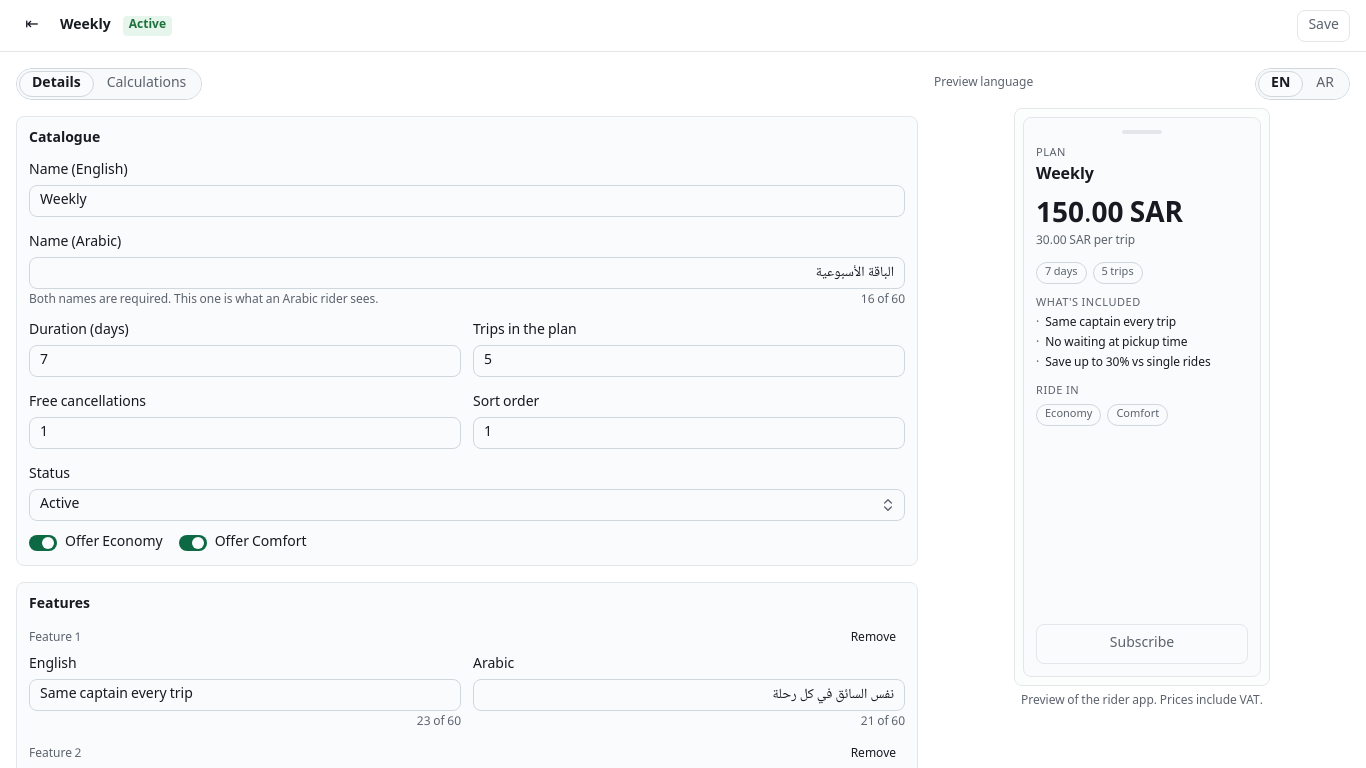
Test: the plan editor › Reset to plan returns the trial numbers to the plan
Check: the heading "Catalogue" is shown, box [29,127,100,151]
Click the tab "Calculations".
click(147, 84)  # box [94,71,199,97]
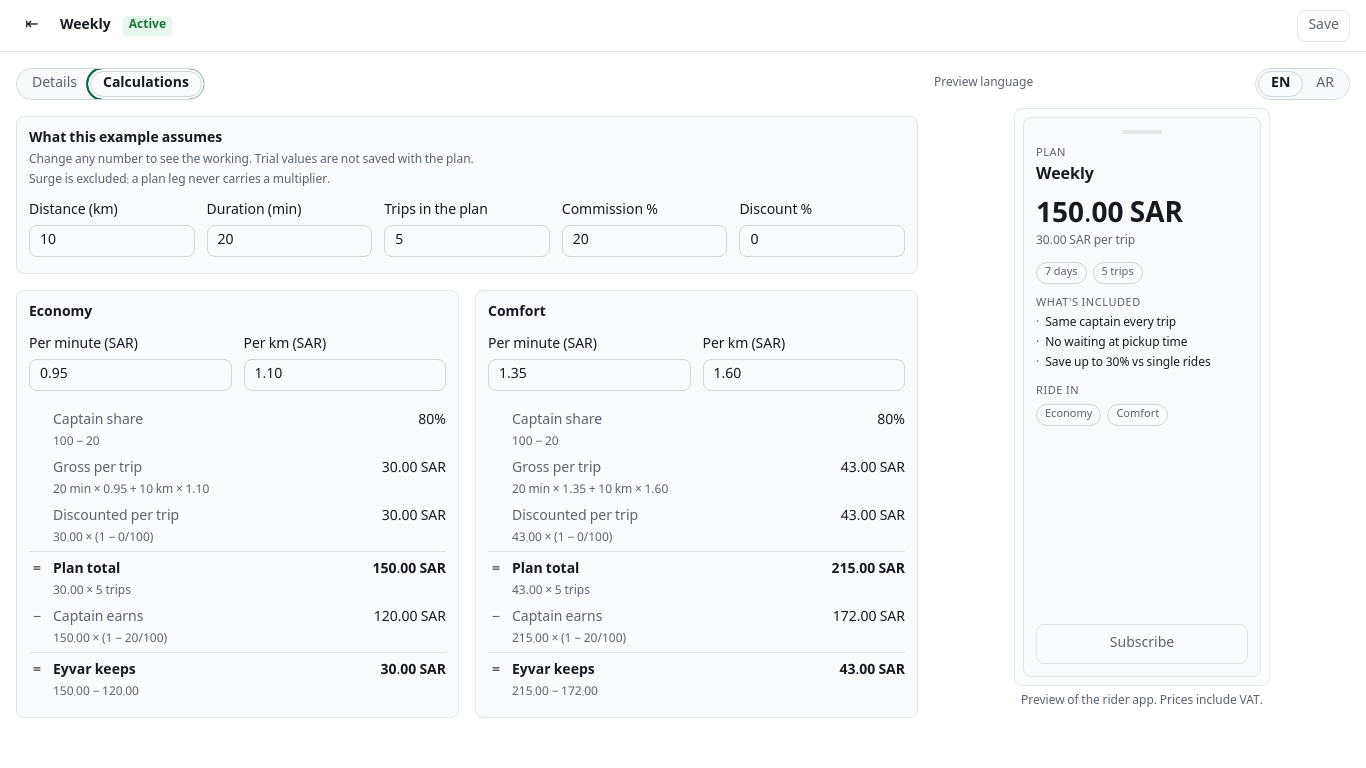
Check: the button "Reset to plan" is not shown
Replace the text in the field labelled "Commission %" with "50" at (645, 241), box [562,225,727,257]
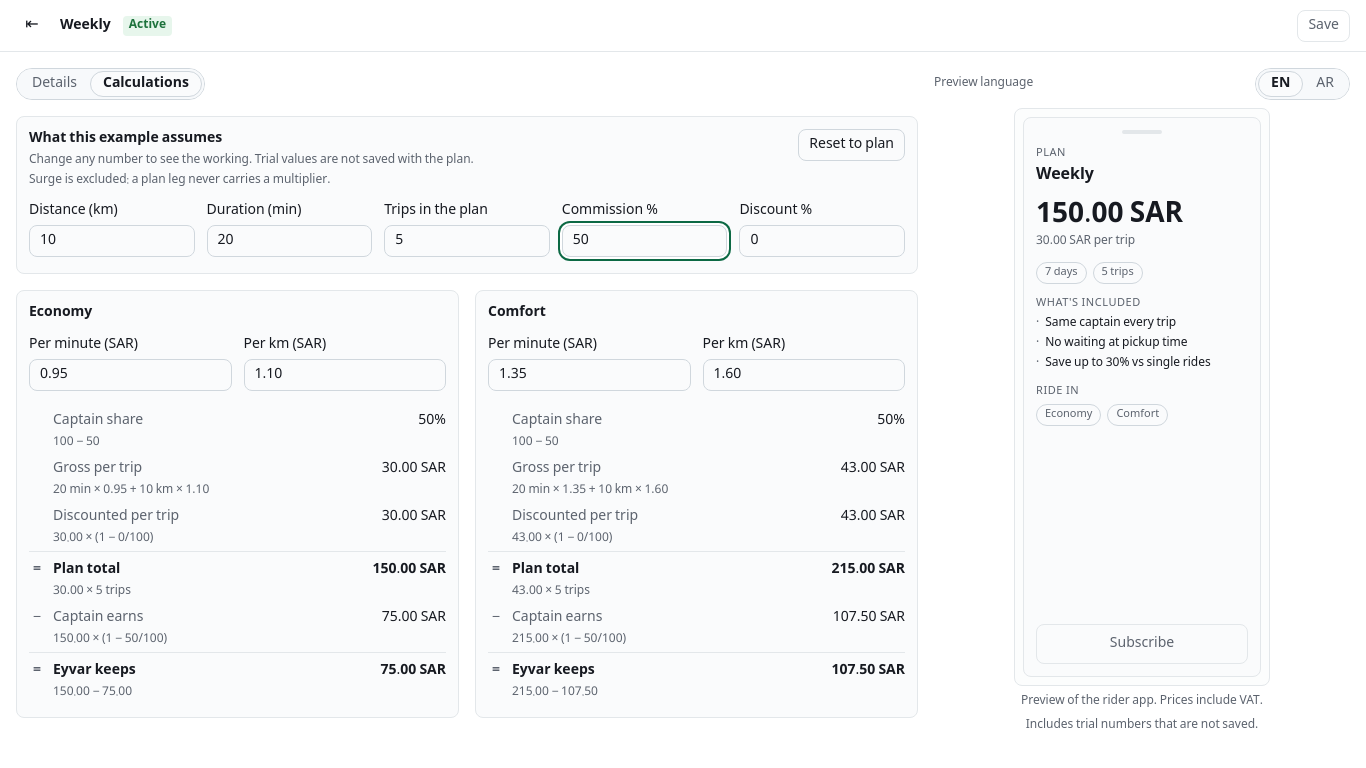
Click the button "Reset to plan".
click(852, 145)  # box [798,129,905,161]
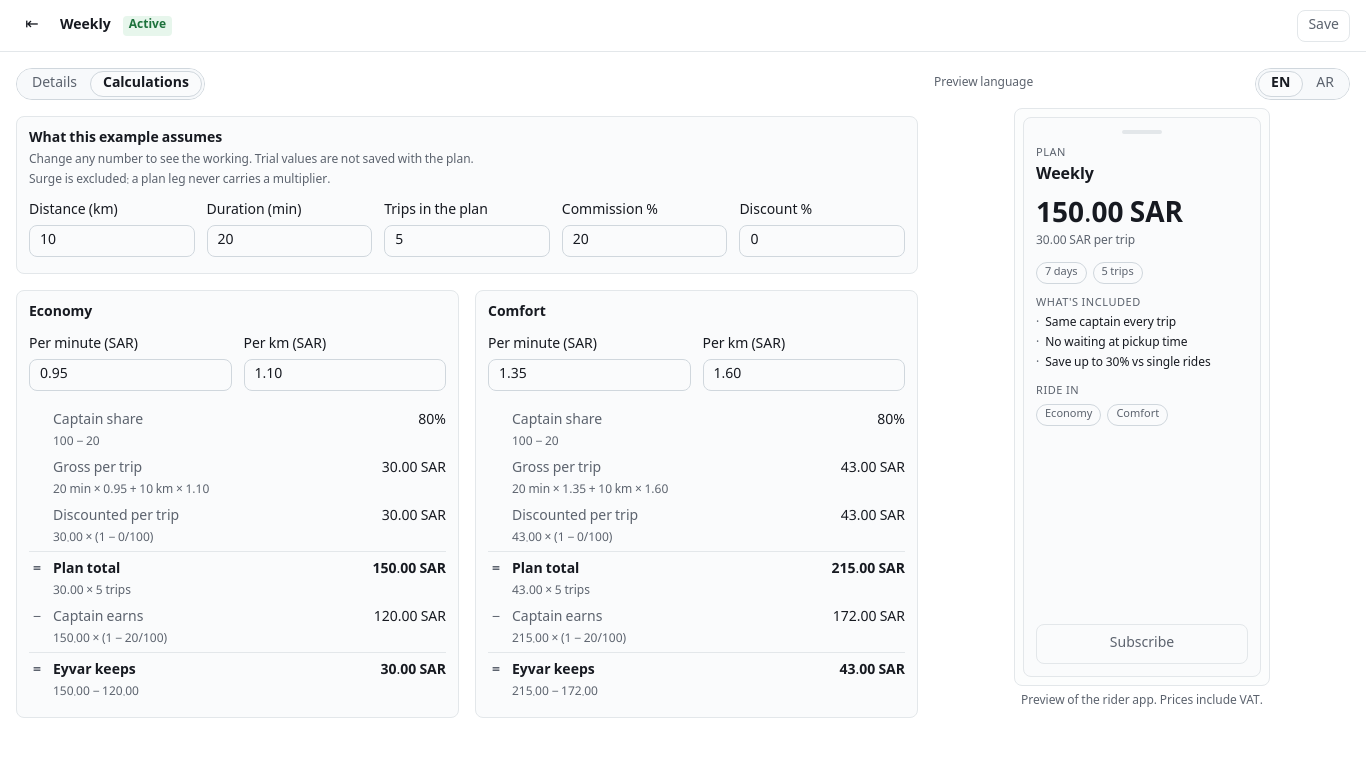
Check: the field labelled "Commission %" holds "20", box [562,225,727,257]
Check: the text "120.00 SAR" is shown, box [374,606,446,630]
Check: the button "Reset to plan" is gone
